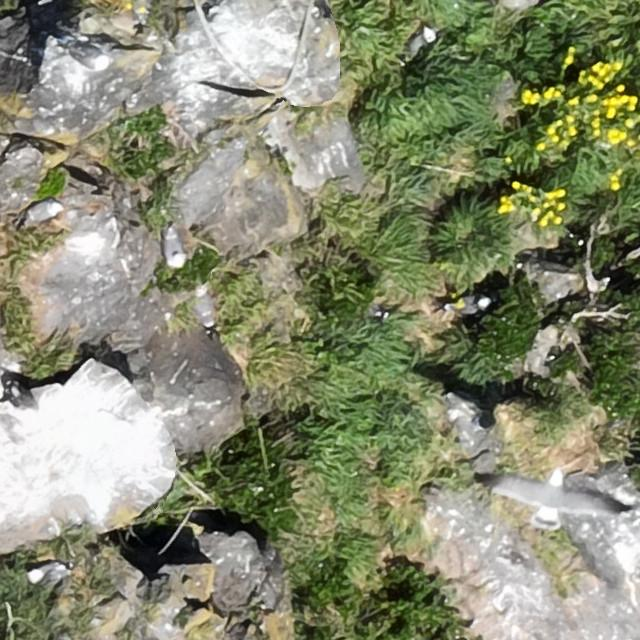F: (485, 462, 617, 528)
umineko: (190, 285, 219, 340), (74, 48, 109, 69), (448, 296, 488, 314), (26, 200, 60, 221), (164, 229, 182, 264), (30, 565, 60, 585), (407, 30, 431, 55)
